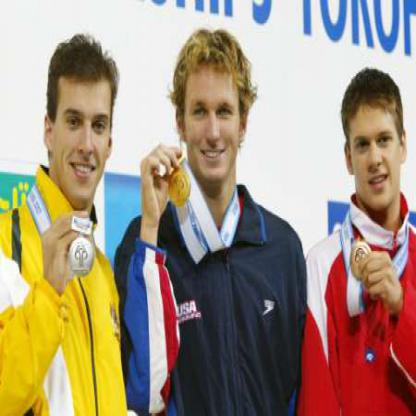face: (54, 50, 113, 205), (184, 40, 245, 183), (350, 72, 403, 213)
